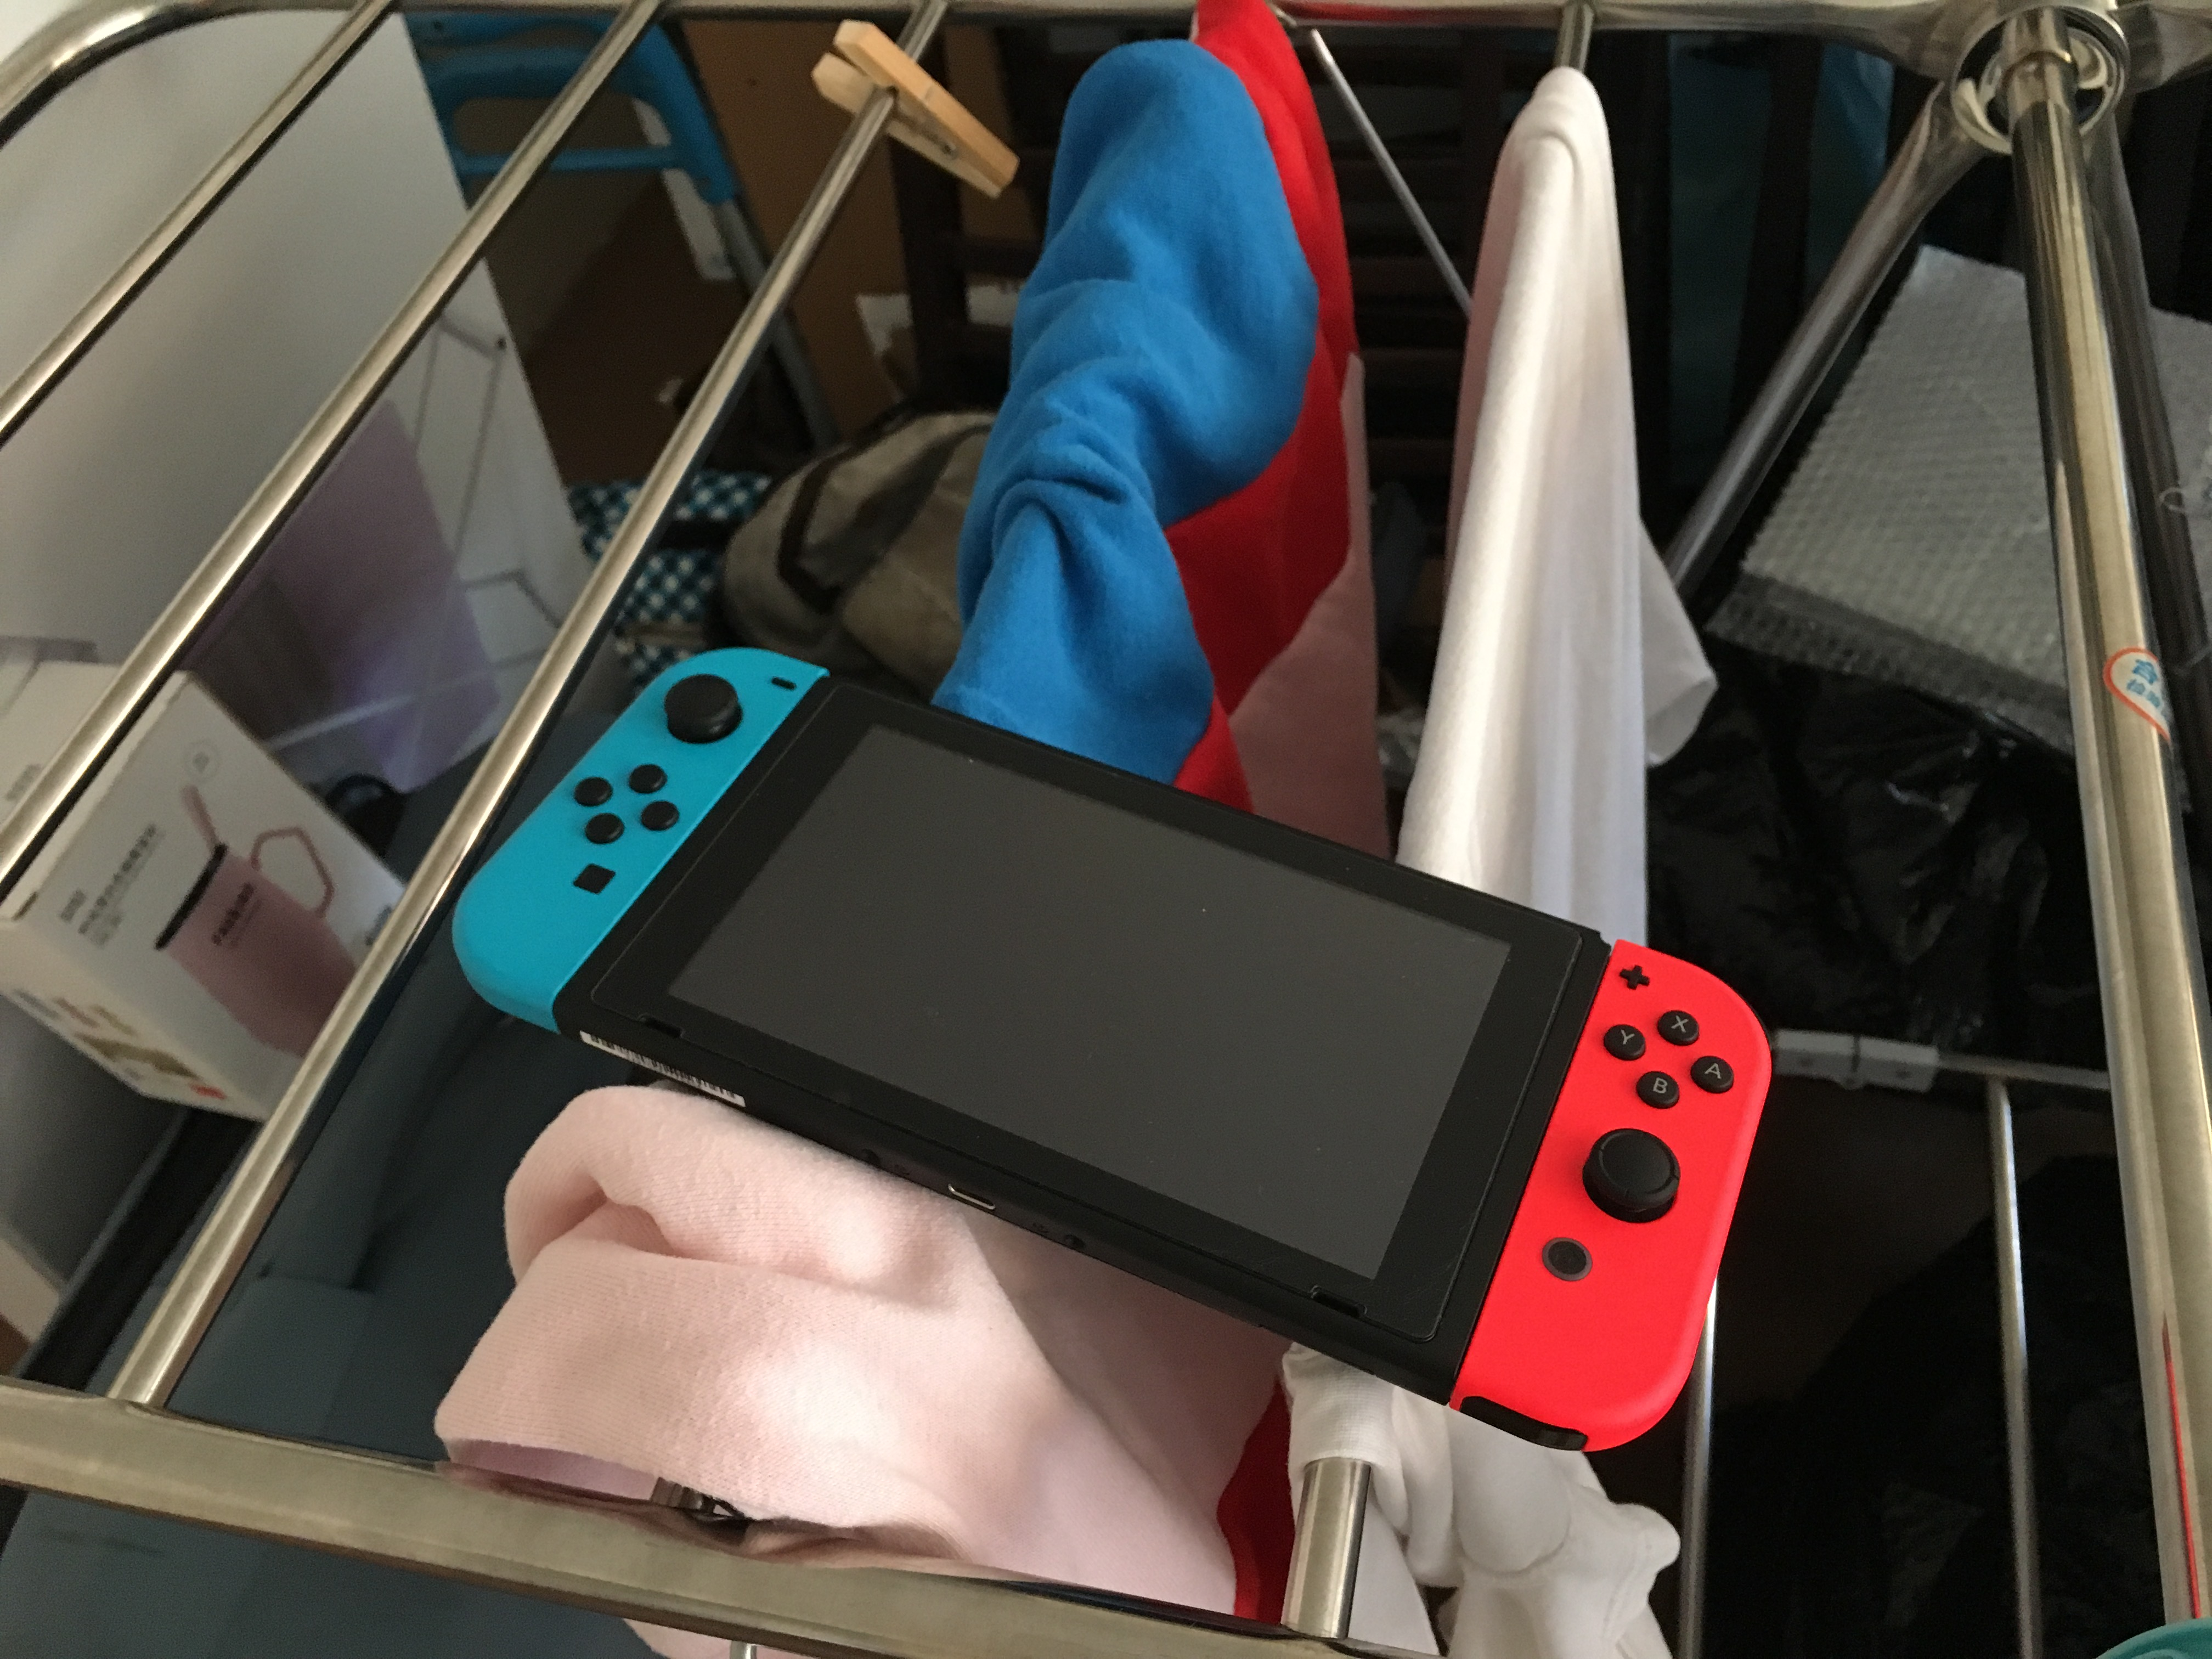NintendoSwitch: (435, 643, 1791, 1474)
